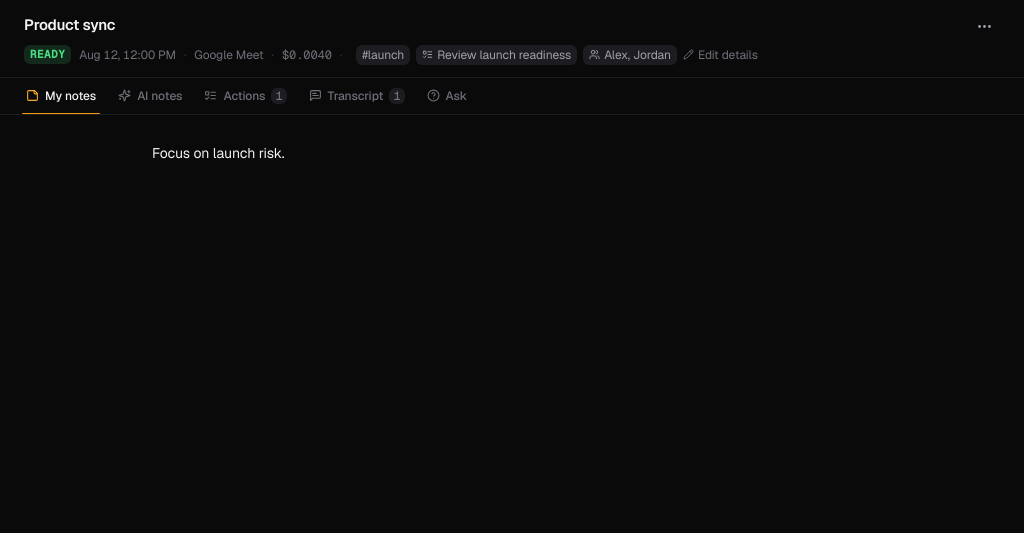
Scenario: MeetingWorkspace › never substitutes the raw transcript for missing AI notes
Expected: the field showing "Product sync" is shown, [18,12,962,38]
Step 1. Click the button named "Meeting actions" → click(984, 26), box [968,12,1000,40]
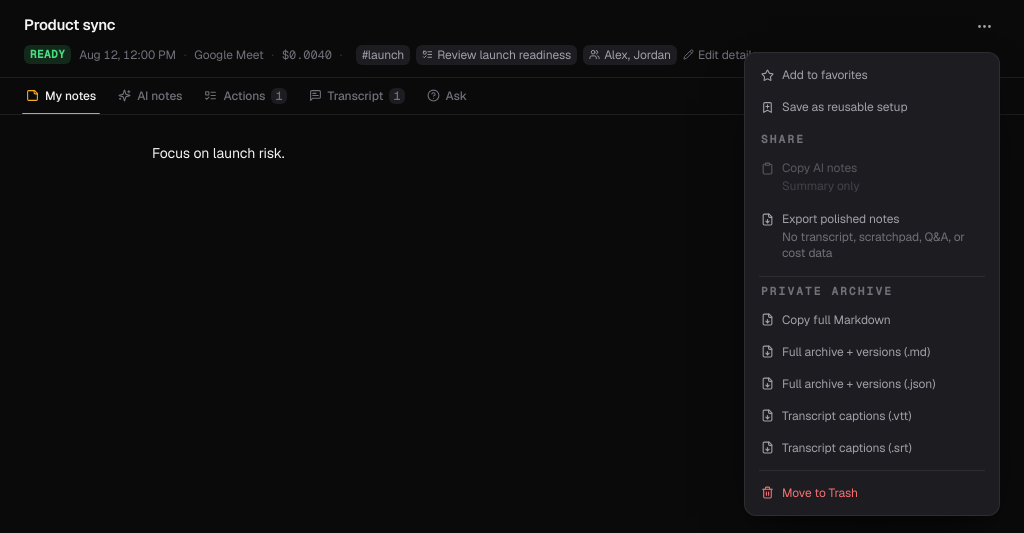
Expected: the button "Copy AI notes Summary only" is disabled, [751,152,993,202]
